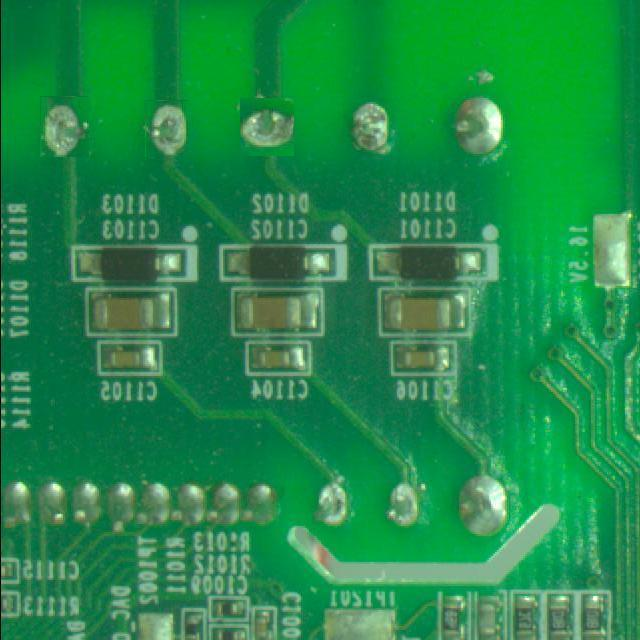lack_of_part: (239, 99, 295, 156), (40, 96, 89, 157), (145, 100, 187, 157)
